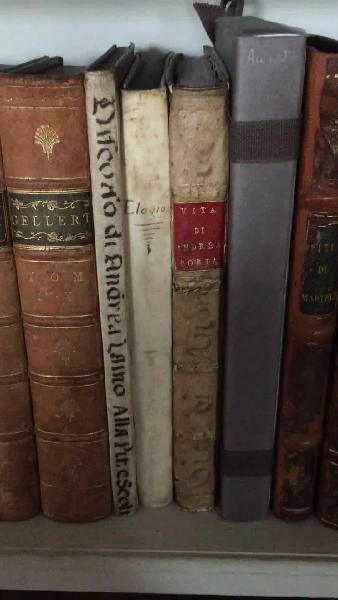Aa6-24: (83, 67, 140, 524)
Aa6-25: (119, 77, 176, 515)
Aa6-26: (167, 85, 234, 521)
Aa6-27: (228, 16, 304, 526)
Aa6-28: (264, 35, 336, 529)
